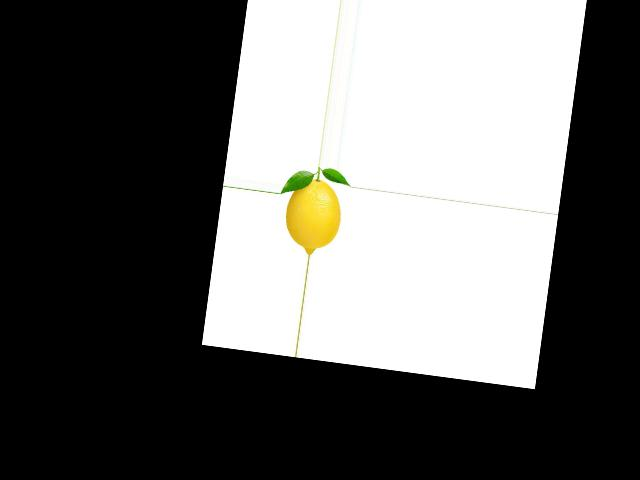lemon: (278, 168, 348, 257)
